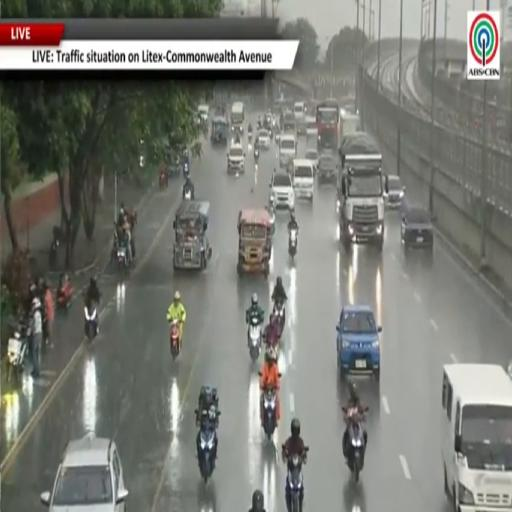bus: (442, 364, 511, 511), (316, 100, 340, 154)
car: (41, 436, 128, 511), (336, 306, 381, 380), (401, 206, 434, 250), (269, 171, 295, 211), (317, 152, 338, 183), (386, 175, 405, 209), (227, 142, 245, 173), (305, 148, 318, 173), (306, 117, 317, 140), (258, 128, 270, 149), (198, 104, 209, 122), (264, 112, 275, 129)
jeepney: (173, 200, 212, 268), (237, 208, 273, 277), (211, 117, 229, 145)
motorcycle: (342, 408, 365, 482), (283, 445, 308, 511), (7, 324, 30, 381), (198, 424, 216, 483), (262, 387, 277, 440), (248, 317, 261, 361), (56, 278, 73, 310), (49, 227, 61, 269), (84, 303, 97, 341), (273, 299, 285, 338), (170, 320, 180, 359), (116, 244, 129, 270), (288, 229, 297, 259), (159, 169, 168, 188), (183, 186, 194, 200), (183, 163, 190, 179), (254, 146, 259, 162), (268, 127, 273, 140), (248, 131, 252, 142)
truck: (337, 133, 386, 250), (341, 109, 360, 139)
